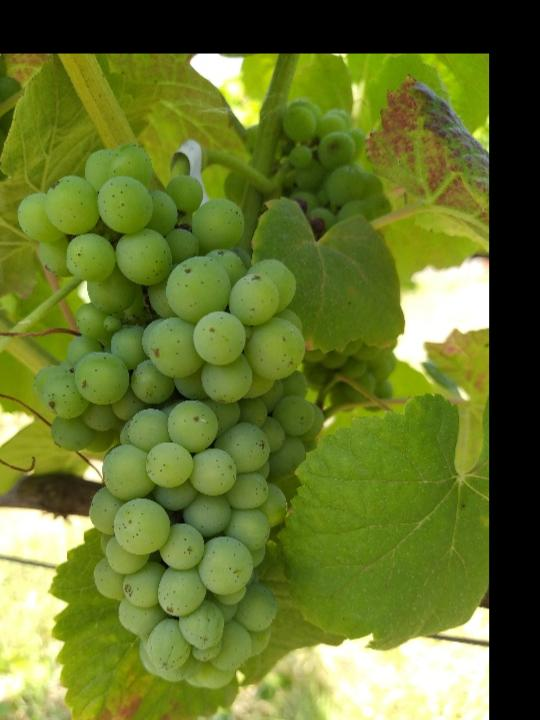grape: (16, 138, 329, 693)
